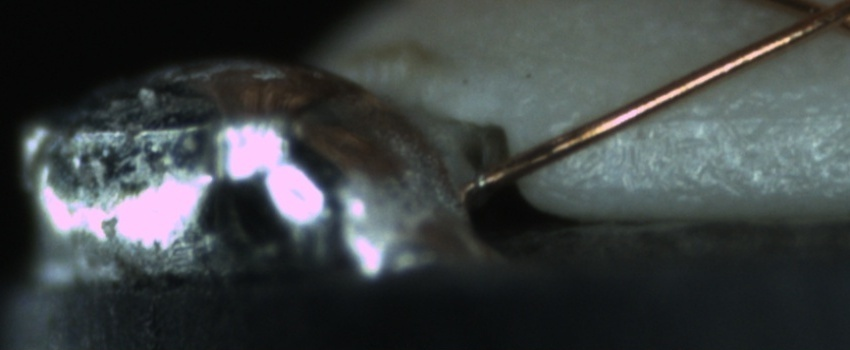CL: (776, 0, 850, 43)
DL: (639, 83, 849, 146)
